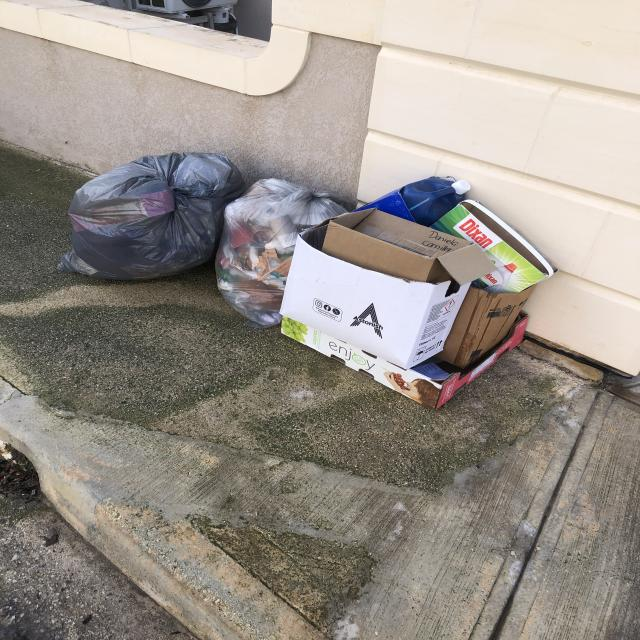Mixed Waste -Black Bag-: (57, 154, 249, 281)
Other: (280, 217, 474, 370), (281, 317, 530, 411), (303, 209, 501, 286), (430, 201, 555, 295), (432, 287, 539, 368), (351, 176, 470, 229)
Recycled Waste -Grey or Green Bag-: (216, 178, 352, 329)
